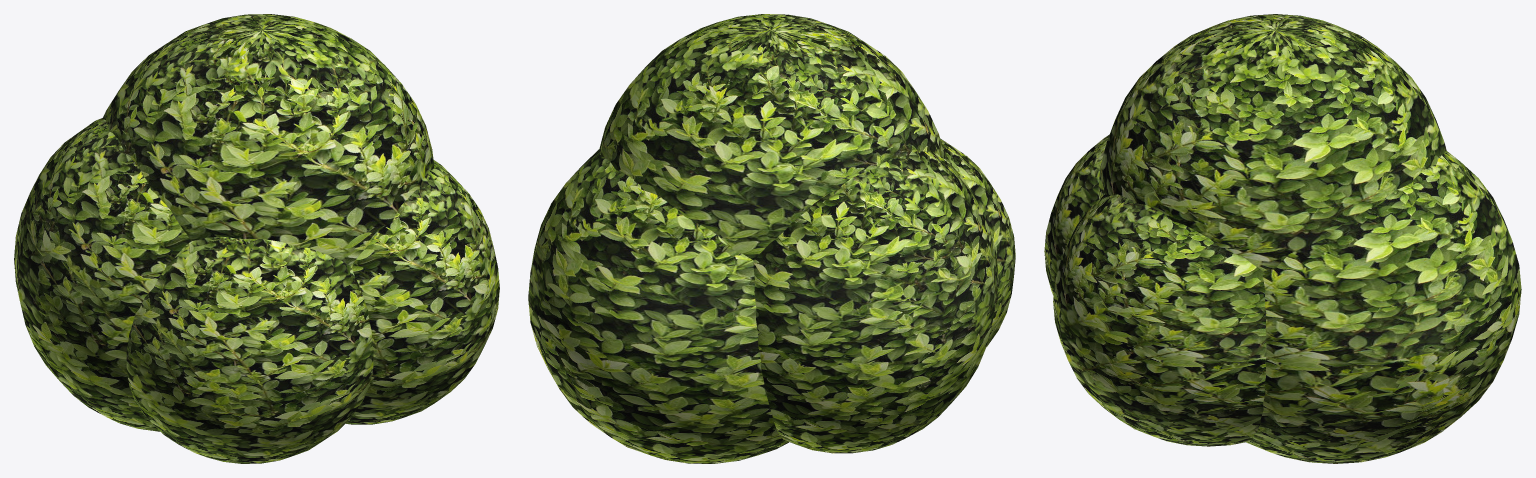
File: leaves.obj
The picture shows the model from 3 angles, left to right: view 1: azimuth 30°, elevation 25°; view 2: azimuth 150°, elevation 25°; view 3: azimuth 270°, elevation 25°; orthographic projection.
Visible parts, largest first — view 1: polySurface1; view 2: polySurface1; view 3: polySurface1.
Part boxes in pixels (x1,y1,x2,y2): polySurface1: [14, 14, 499, 463]; polySurface1: [528, 14, 1015, 463]; polySurface1: [1044, 14, 1521, 463].
Size of the model in its own units: 6.34 by 6.04 by 6.53.
Materials: 1 (1 with a texture image).
